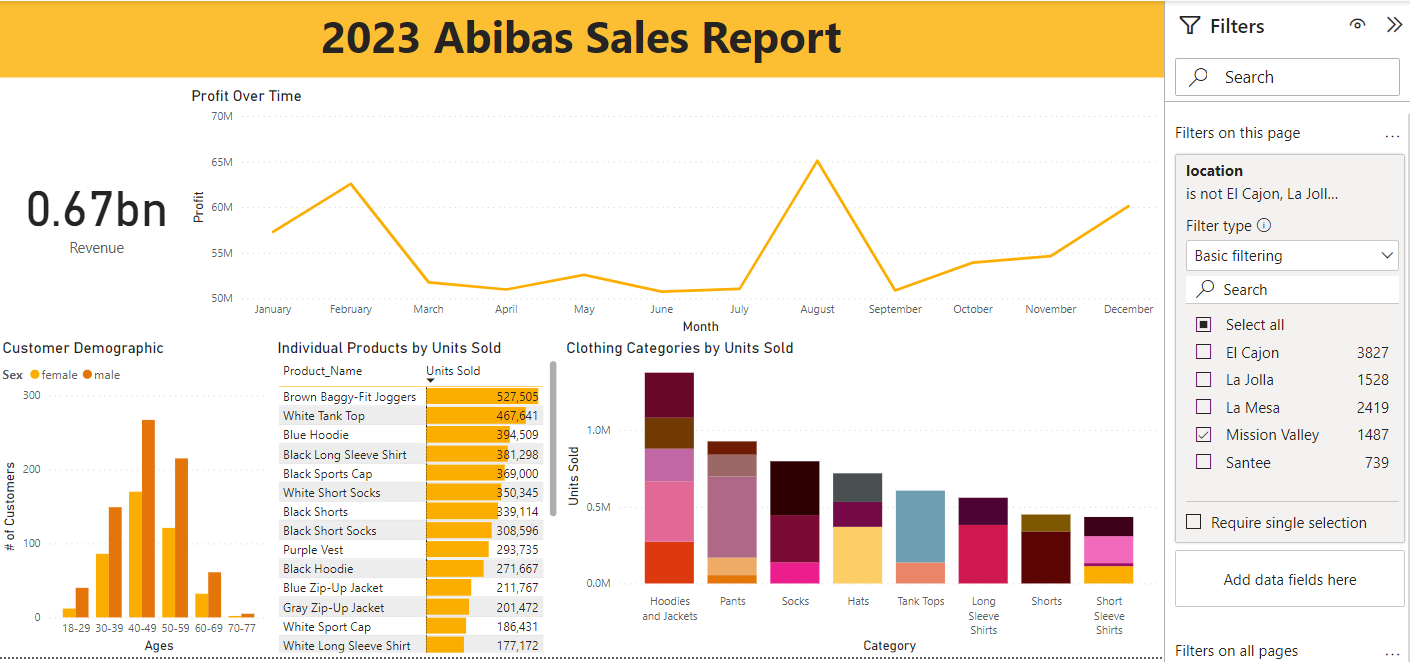

What the dashboard file says about the page in this screenshot:
{"tool":"powerbi","page":{"name":"Report","canvas":[1280,720],"ordinal":0},"visuals":[{"type":"textbox","box":[0,0,1280.3,83.7],"z":0},{"type":"card","fields":{"Values":["sales.total profit"]},"box":[0,93.3,216.8,277.2],"z":1000},{"type":"lineChart","title":"Profit Over Time","fields":{"Category":["sales.date.Variation.Date Hierarchy.Month"],"Y":["sales.profit"]},"box":[207.2,93.3,1073.1,277.2],"z":2000},{"type":"columnChart","title":"Clothing Categories by Units Sold","fields":{"Category":["store.Category","store.Product_Name"],"Y":["Sum(sales.units sold)"],"Series":["store.Product_Name"]},"box":[618.9,370.5,661.4,349.9],"z":3000},{"type":"clusteredColumnChart","title":"Customer Demographic","fields":{"Category":["customer.age groups"],"Series":["customer.sex"],"Y":["customer.CountofAge"]},"box":[0,370.5,301.9,349.9],"z":4000},{"type":"tableEx","title":"Individual Products by Units Sold","fields":{"Values":["store.Product_Name","Sum(sales.units sold)"]},"box":[301.9,370.5,317,349.9],"z":5000}]}

Visuals, with their boxes on the page's 1280x720 design canvas (x1, y1, x2, y2). These are canvas units, not pixel positions in the 1410x662 screenshot, which may show the page scaled, cropped or inside an application window:
textbox: BBox(0, 0, 1280, 84)
card - sales.total profit: BBox(0, 93, 217, 370)
"Profit Over Time" lineChart: BBox(207, 93, 1280, 370)
"Clothing Categories by Units Sold" columnChart: BBox(619, 370, 1280, 720)
"Customer Demographic" clusteredColumnChart: BBox(0, 370, 302, 720)
"Individual Products by Units Sold" tableEx: BBox(302, 370, 619, 720)
